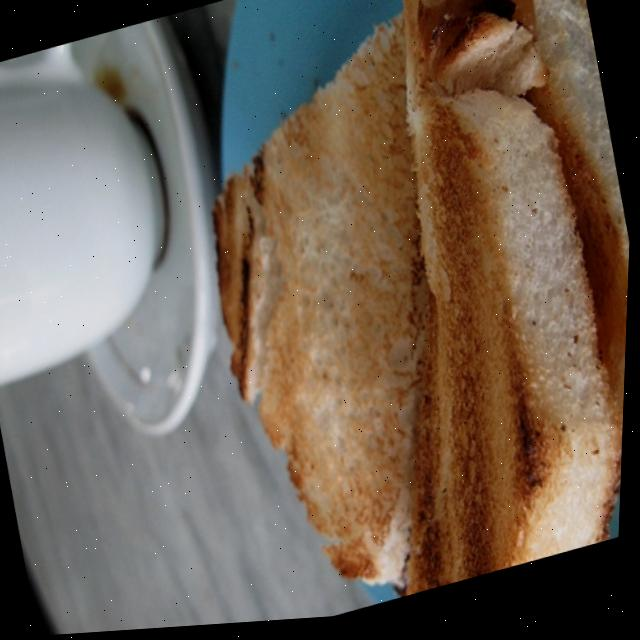面包点心: (98, 0, 640, 634)
